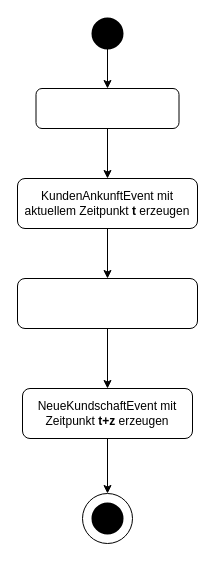
The diagram is 215 pixels wide and 561 high, and some of its shapes have lost their labels. Here are the shapes that lost their labels. From the top down, the box of each, then its label:
(35, 88, 179, 128): neuen Kunden erzeugen
(16, 278, 198, 328): Zwischenankunftszeit z ermitteln
